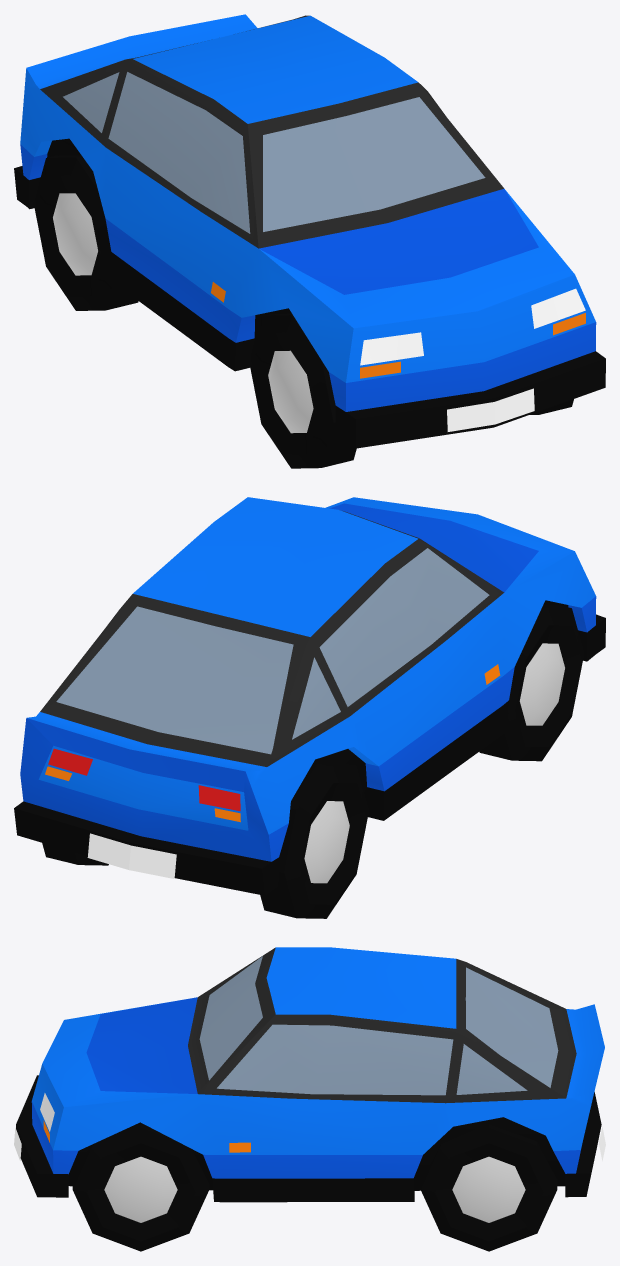
Rendered from sedan_blue.glb.
The picture shows the model from 3 angles, top to bottom: view 1: azimuth 30°, elevation 25°; view 2: azimuth 150°, elevation 25°; view 3: azimuth 270°, elevation 25°; orthographic projection. The views are drawn at different scales.
Parts seen in each view (by area): view 1: car1a_0; view 2: car1a_0; view 3: car1a_0.
Part boxes in pixels (x1,y1,x2,y2): car1a_0: (14, 14, 605, 468); car1a_0: (14, 497, 605, 918); car1a_0: (14, 947, 605, 1251).
Bounding box in the file's own units: 2.47 × 2.37 × 5.68.
1 material, 1 textured.
